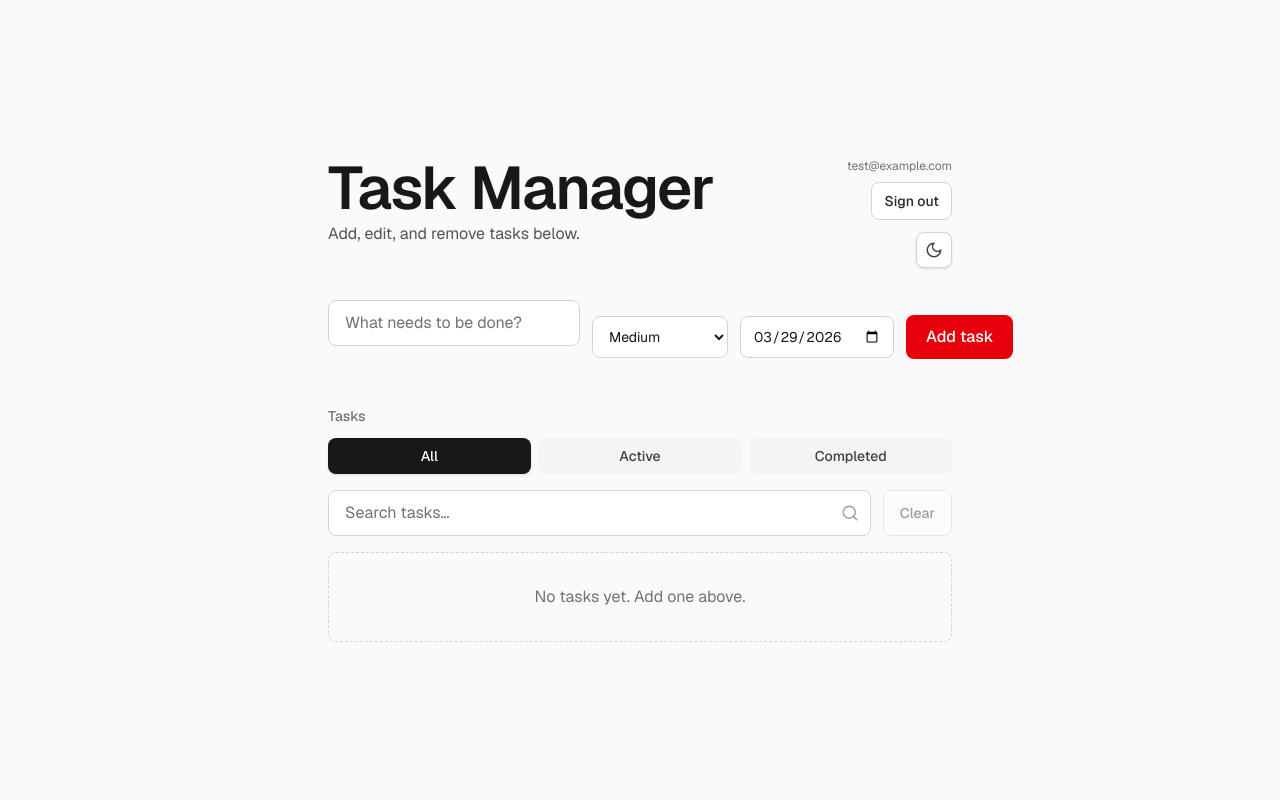
Scenario: Home task manager › reorders tasks via drag and drop
Type "A" into the field named "Task title".
click(454, 323); type("A")  # box [328, 300, 580, 346]
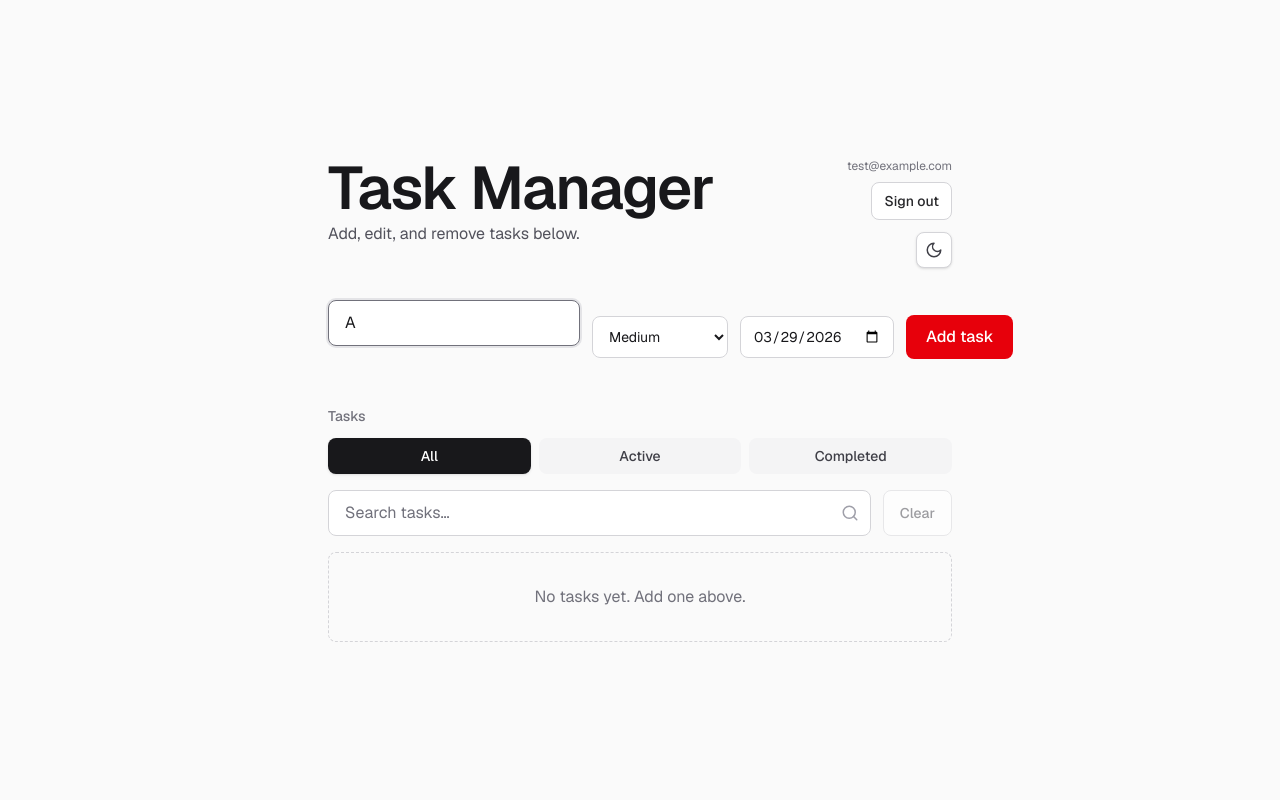
Click the button "Add task".
click(960, 337)  # box [906, 315, 1013, 359]
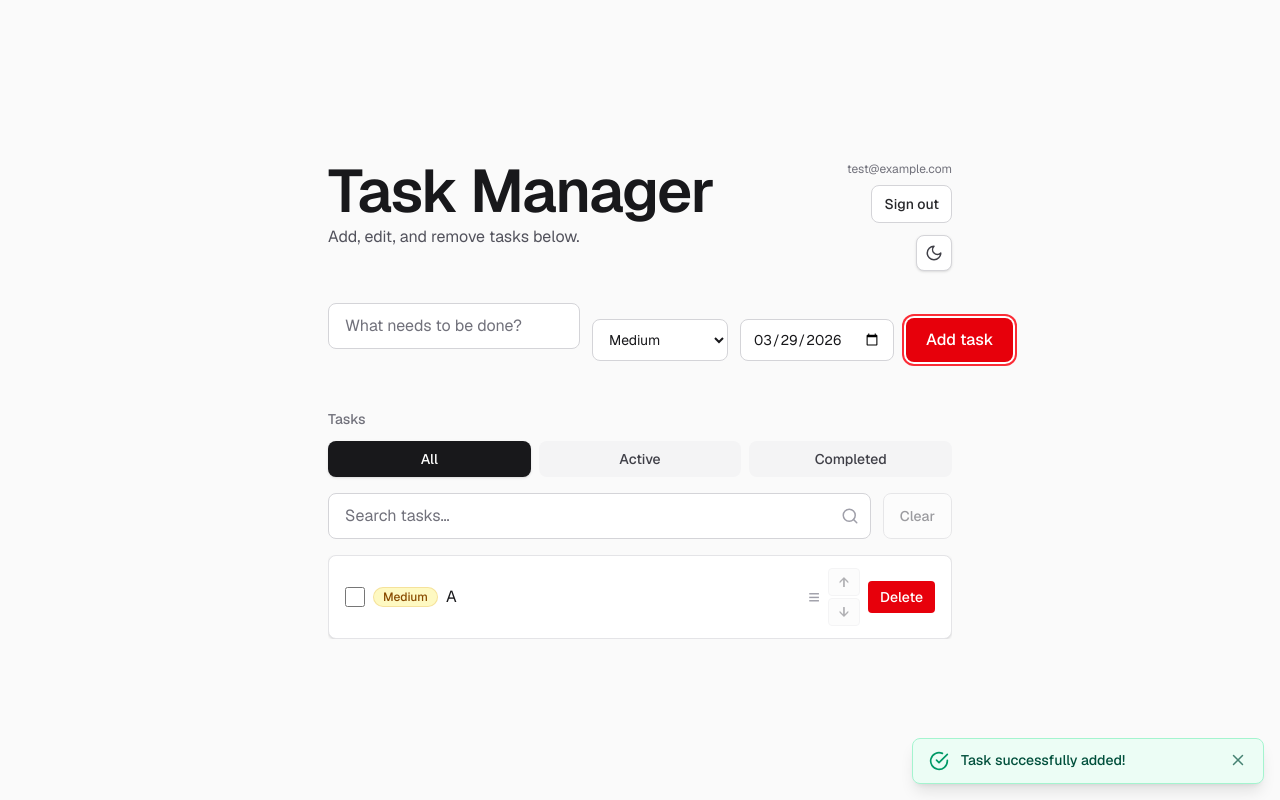
Type "B" into the field named "Task title".
click(454, 326); type("B")  # box [328, 303, 580, 349]
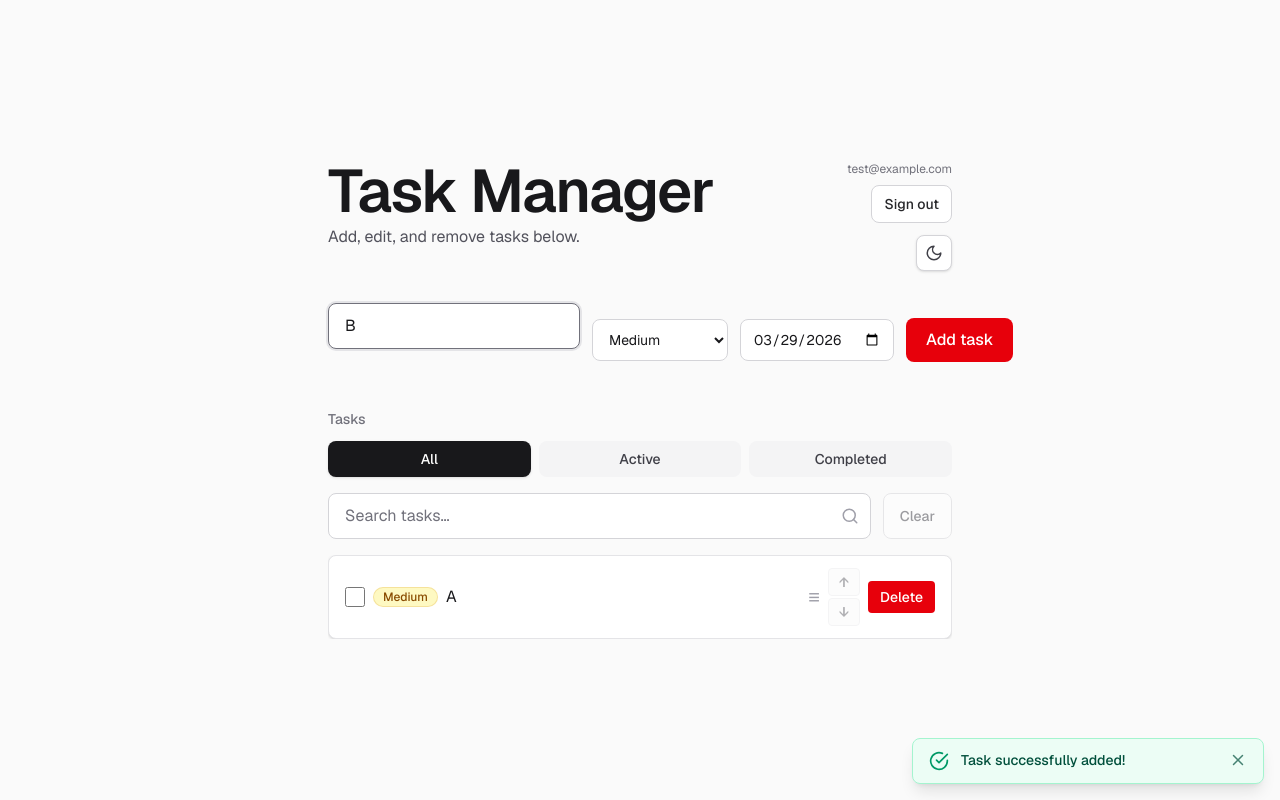
Click the button "Add task".
click(960, 340)  # box [906, 318, 1013, 362]
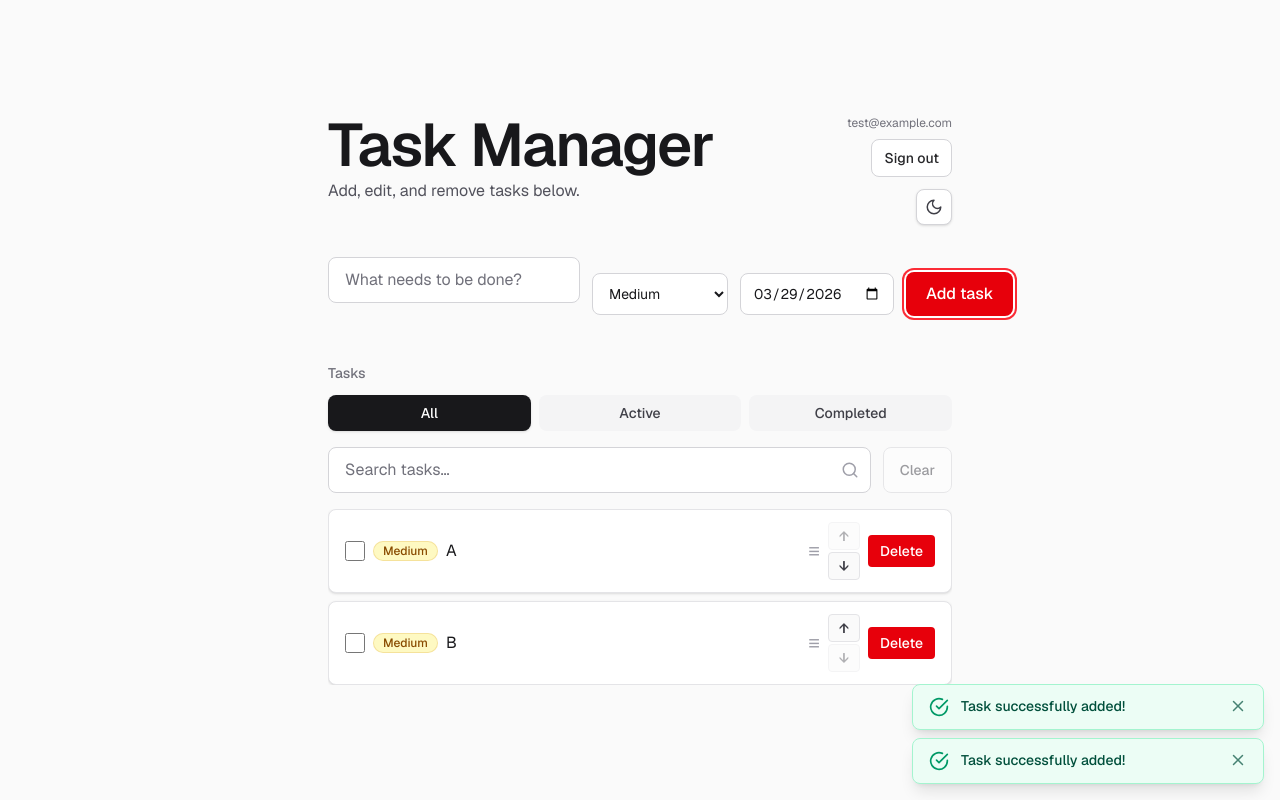
Type "C" into the field named "Task title".
click(454, 280); type("C")  # box [328, 257, 580, 303]
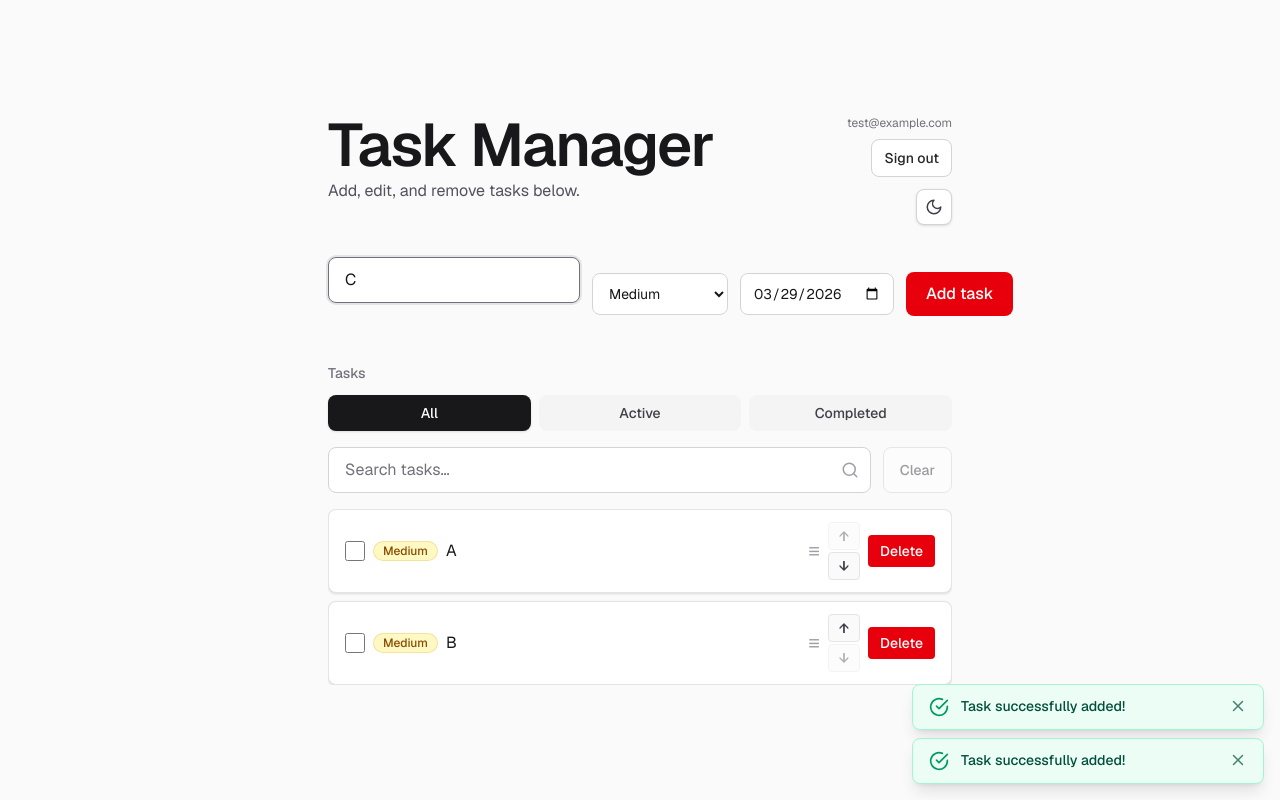
Click the button "Add task".
click(960, 294)  # box [906, 272, 1013, 316]
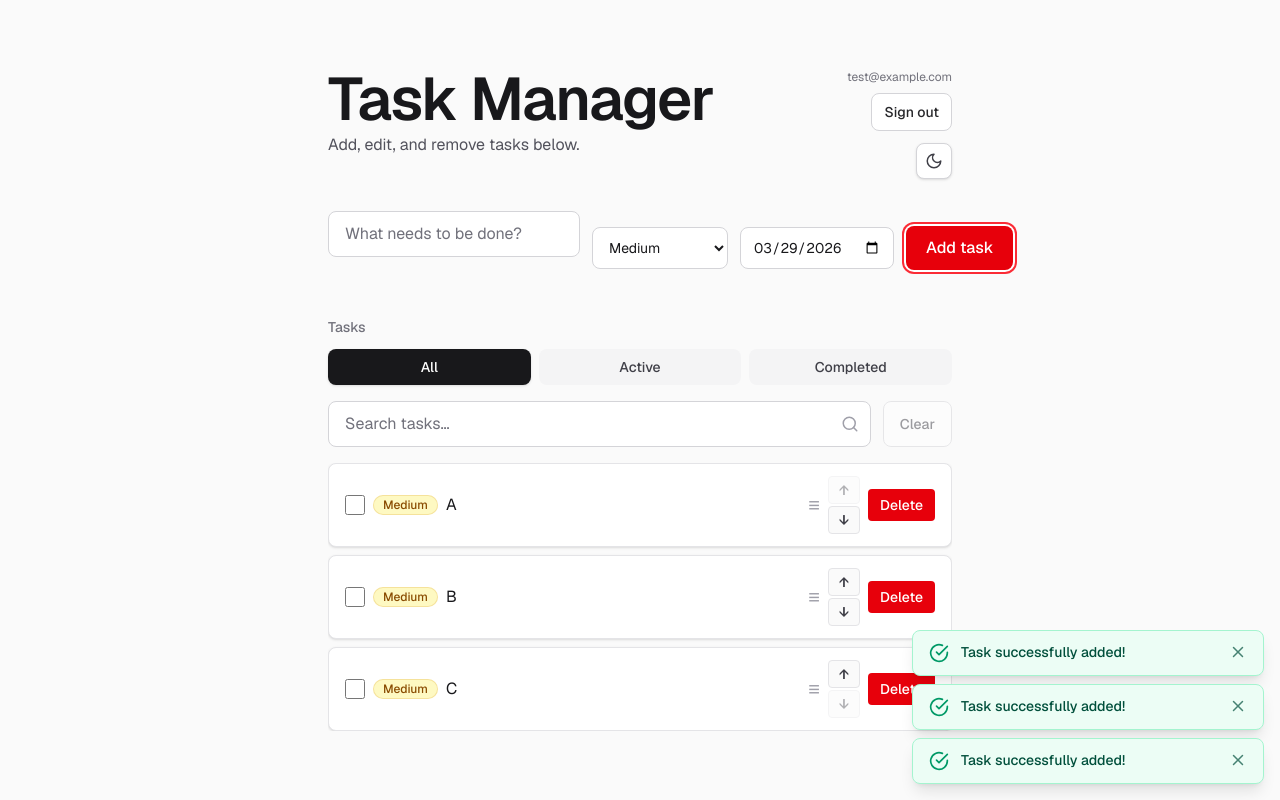
Expected: the button "A" is shown, [446, 494, 457, 515]
Expected: the button "C" is shown, [446, 678, 457, 699]
